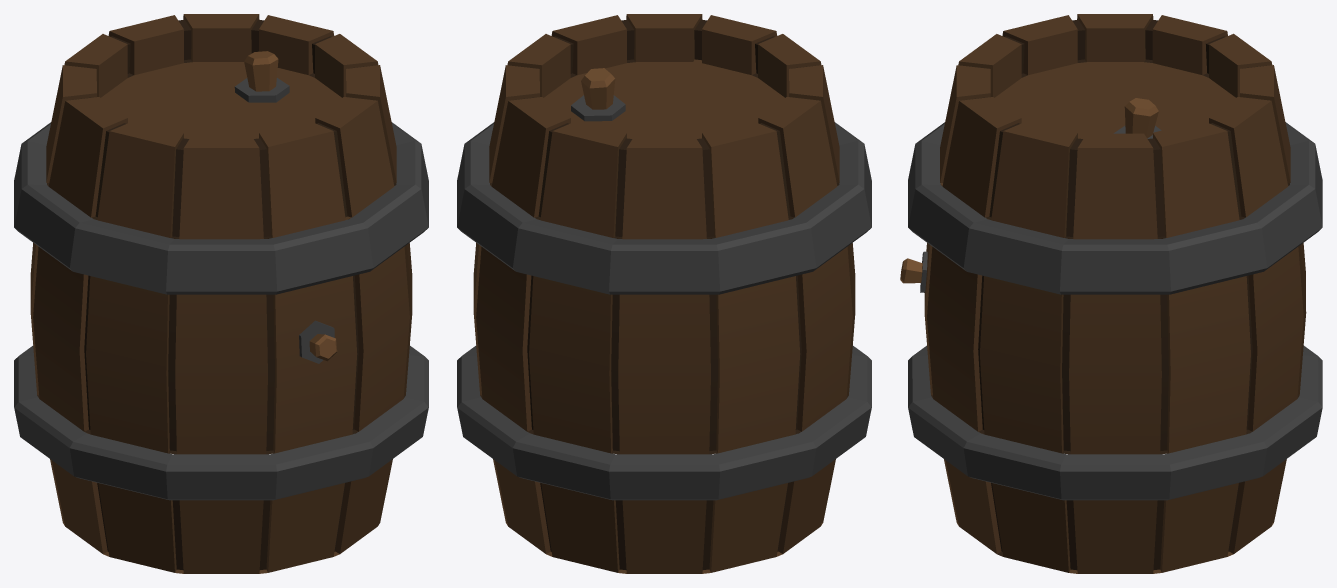
Rendered from Бочка.fbx.
The picture shows the model from 3 angles, left to right: view 1: azimuth 30°, elevation 25°; view 2: azimuth 150°, elevation 25°; view 3: azimuth 270°, elevation 25°; orthographic projection.
Parts seen in each view (by area): view 1: Circle.001; view 2: Circle.001; view 3: Circle.001.
Part boxes in pixels (x1,y1,x2,y2): Circle.001: (14,14,428,573); Circle.001: (457,14,871,573); Circle.001: (900,14,1322,573).
Size of the model in its own units: 254 by 291 by 258.
